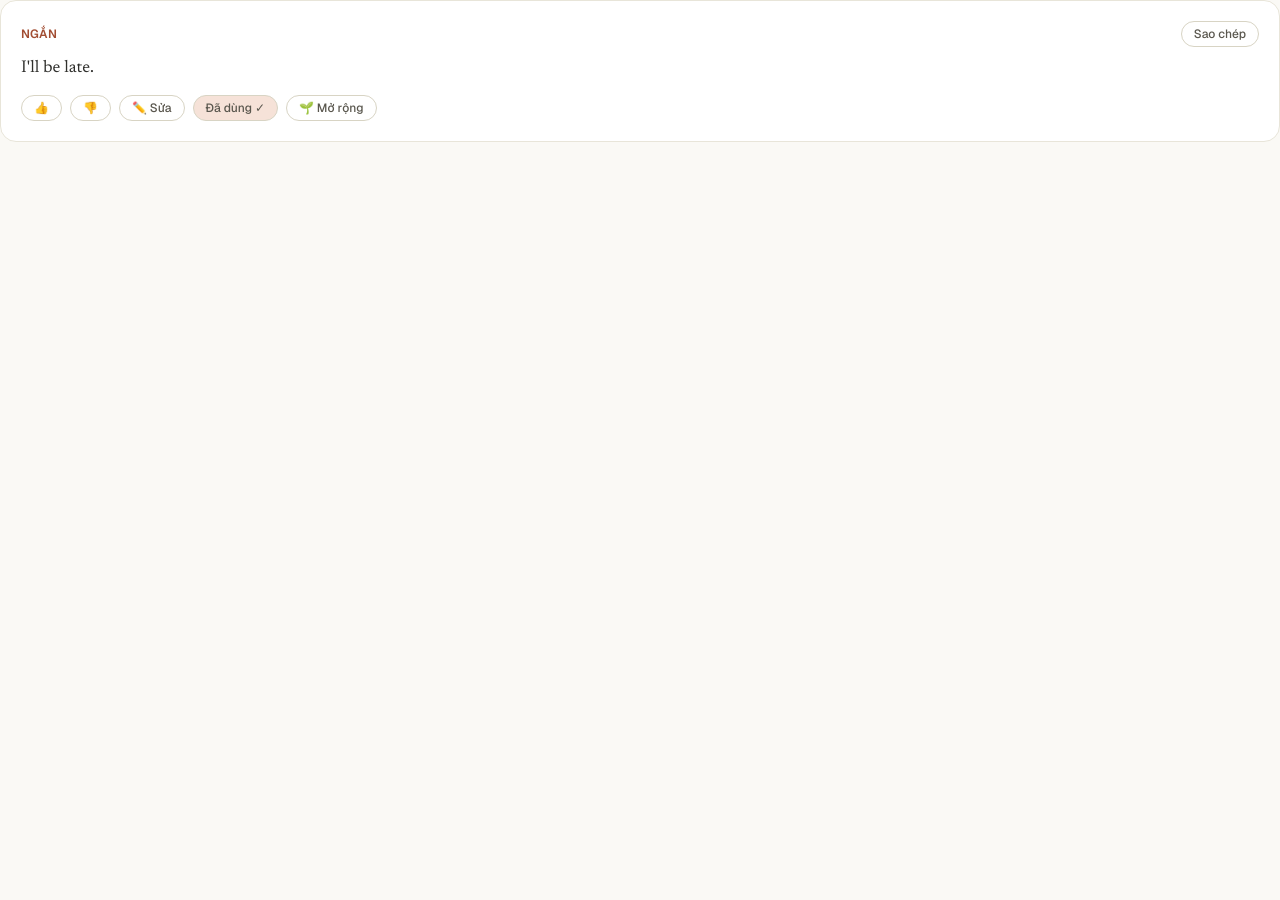
Scenario: DevelopableOption › clears the original's 'Used' mark when a developed version is used
Expected: the button "Đã dùng ✓" is shown, x1=193 y1=95 x2=278 y2=121
What coordinates should you click on to do the following:
click the button with aria-label "Mở rộng bản nháp này"
I would click on:
 (331, 108)
Its box is x1=286 y1=95 x2=377 y2=121.
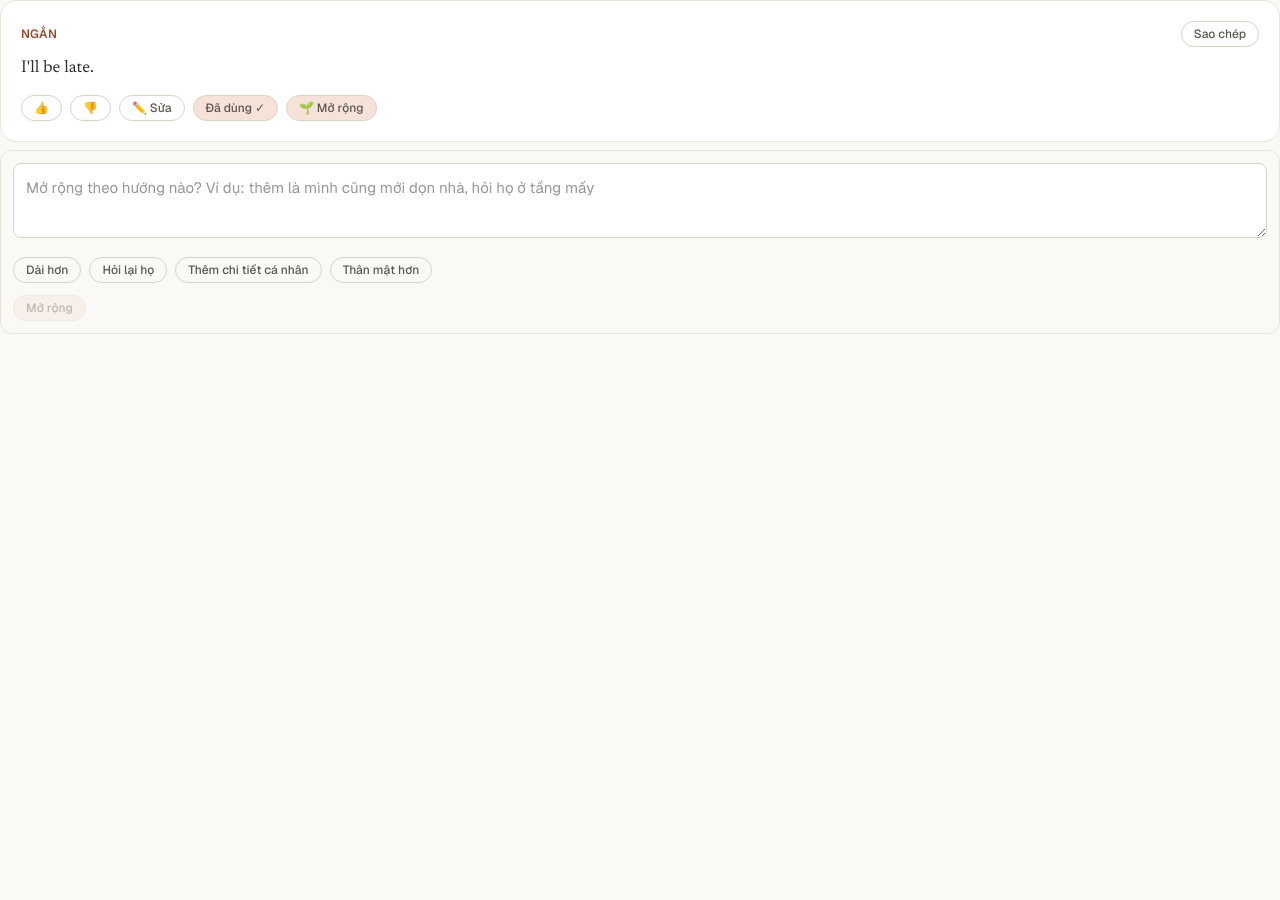
What coordinates should you click on to do the following:
click the button "Dài hơn"
I would click on:
 (47, 270)
Its box is x1=13 y1=257 x2=81 y2=283.
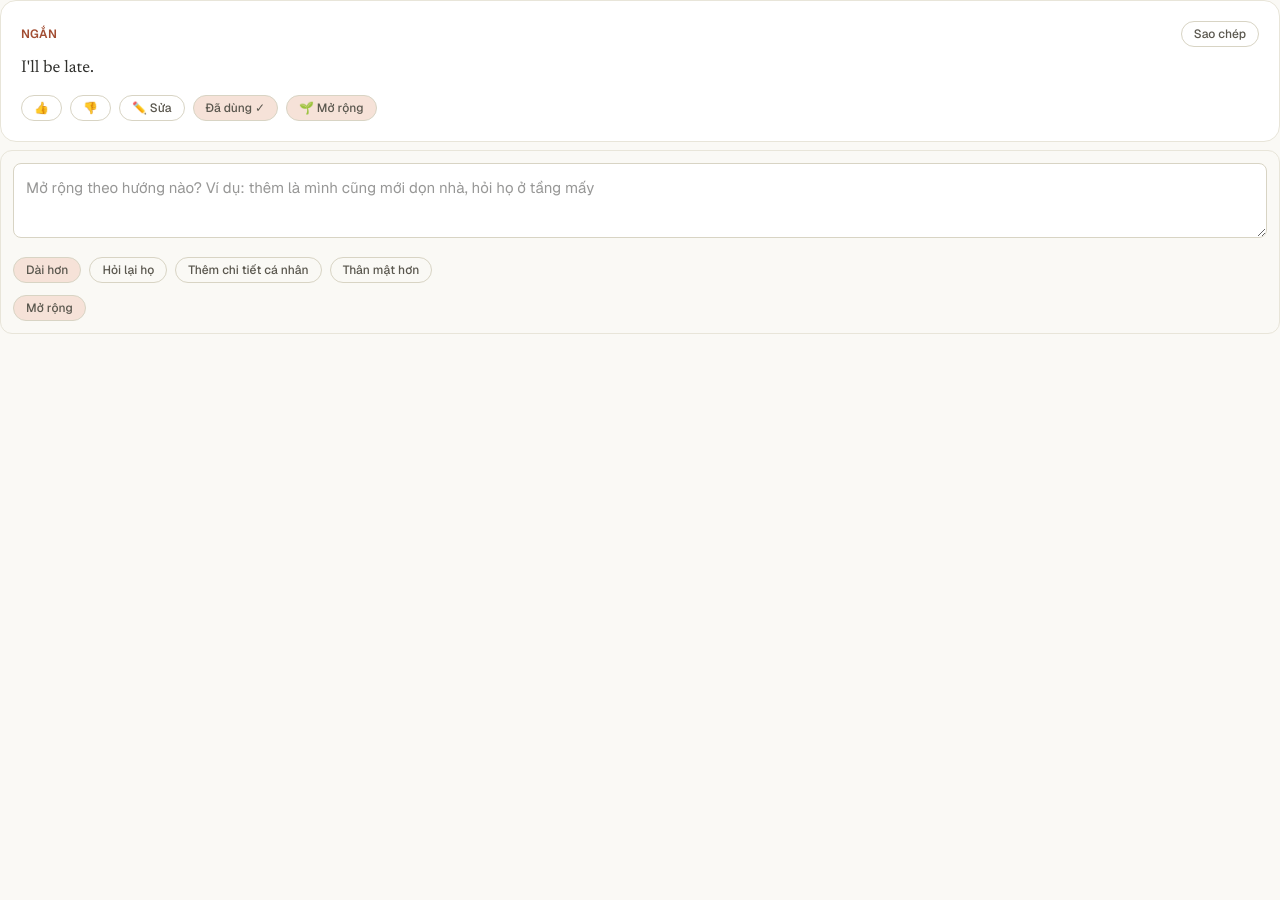
What coordinates should you click on to do the following:
click the button "Mở rộng"
I would click on:
 (49, 308)
Its box is x1=13 y1=295 x2=86 y2=321.
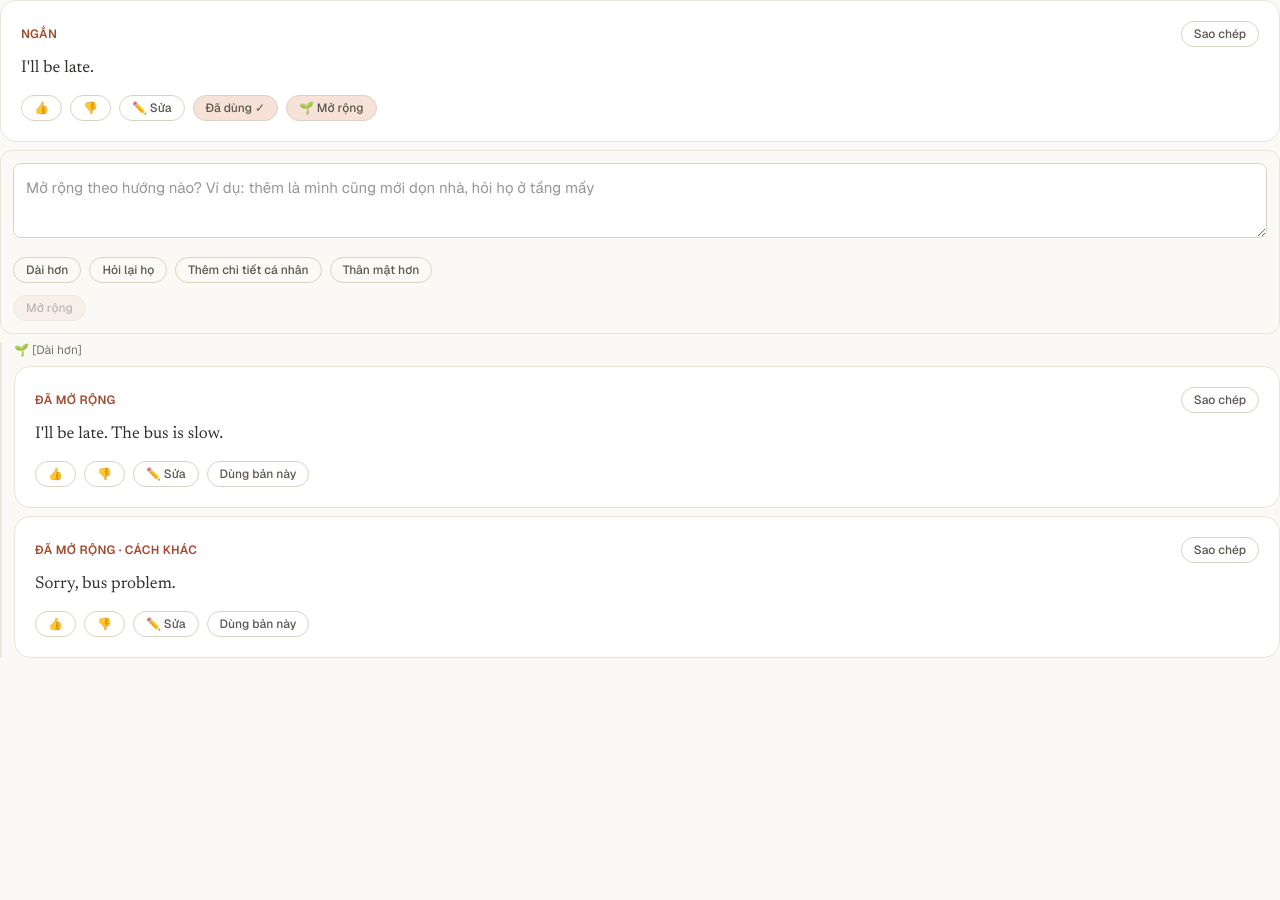
Result: the button "Dùng bản này" below "Sorry, bus problem." is enabled
What coordinates should you click on to do the following:
click the button "Dùng bản này" below "Sorry, bus problem."
I would click on:
 (258, 624)
Its box is x1=207 y1=611 x2=309 y2=637.
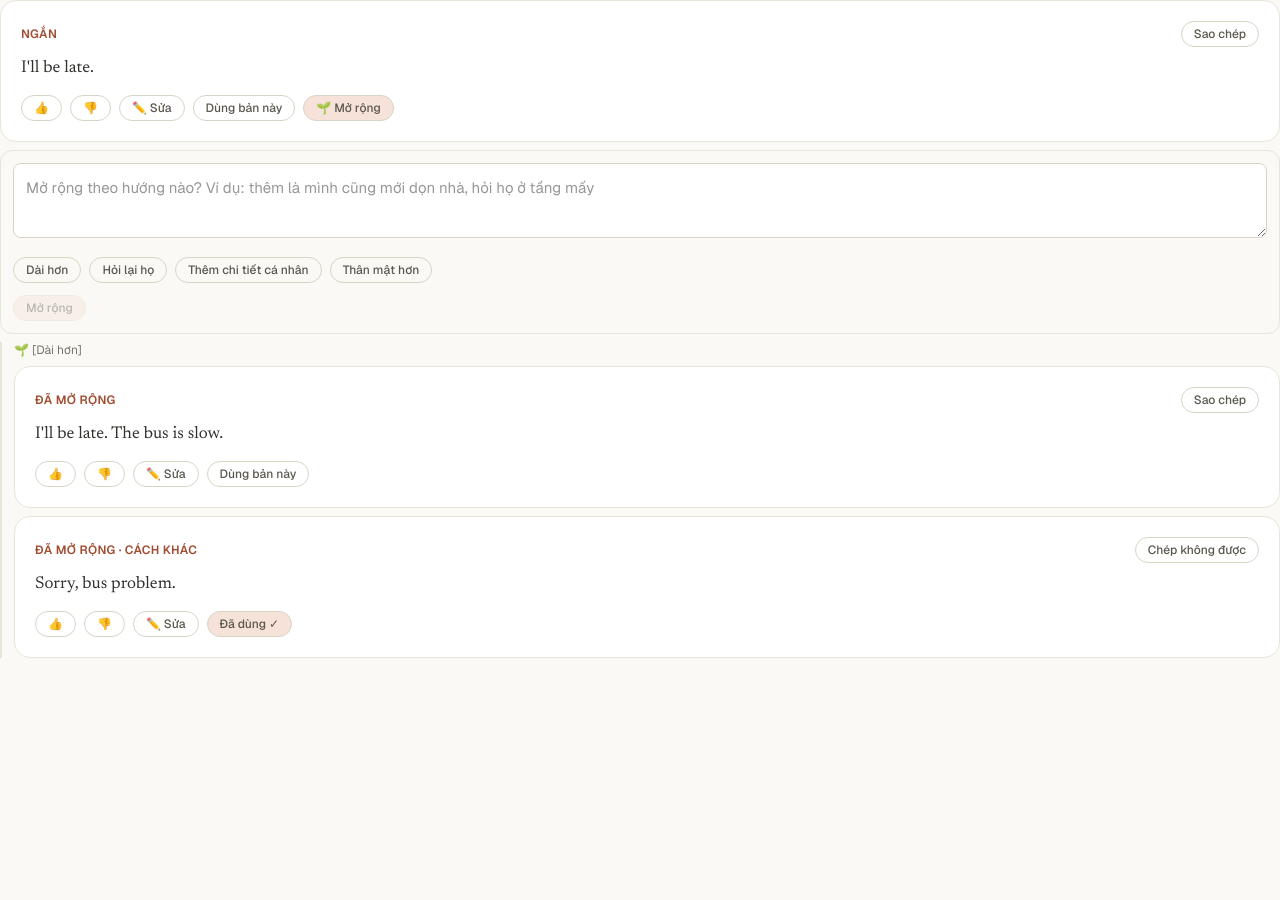
Result: the button "Đã dùng ✓" is shown at x1=207 y1=611 x2=292 y2=637
Result: the button "Dùng bản này" below "Ngắn" is shown at x1=193 y1=95 x2=295 y2=121
